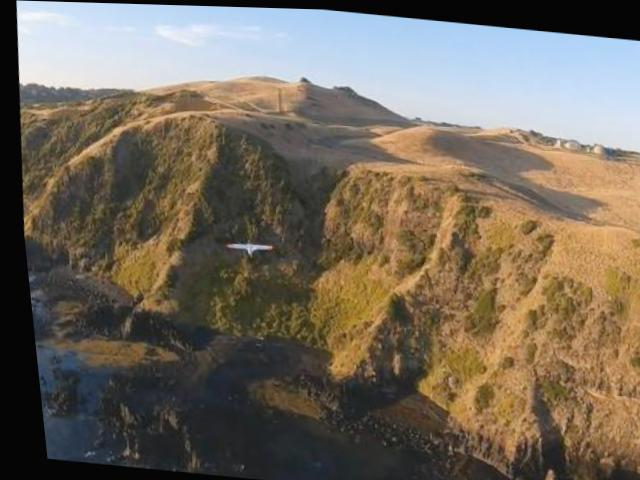uav: (218, 233, 269, 258)
